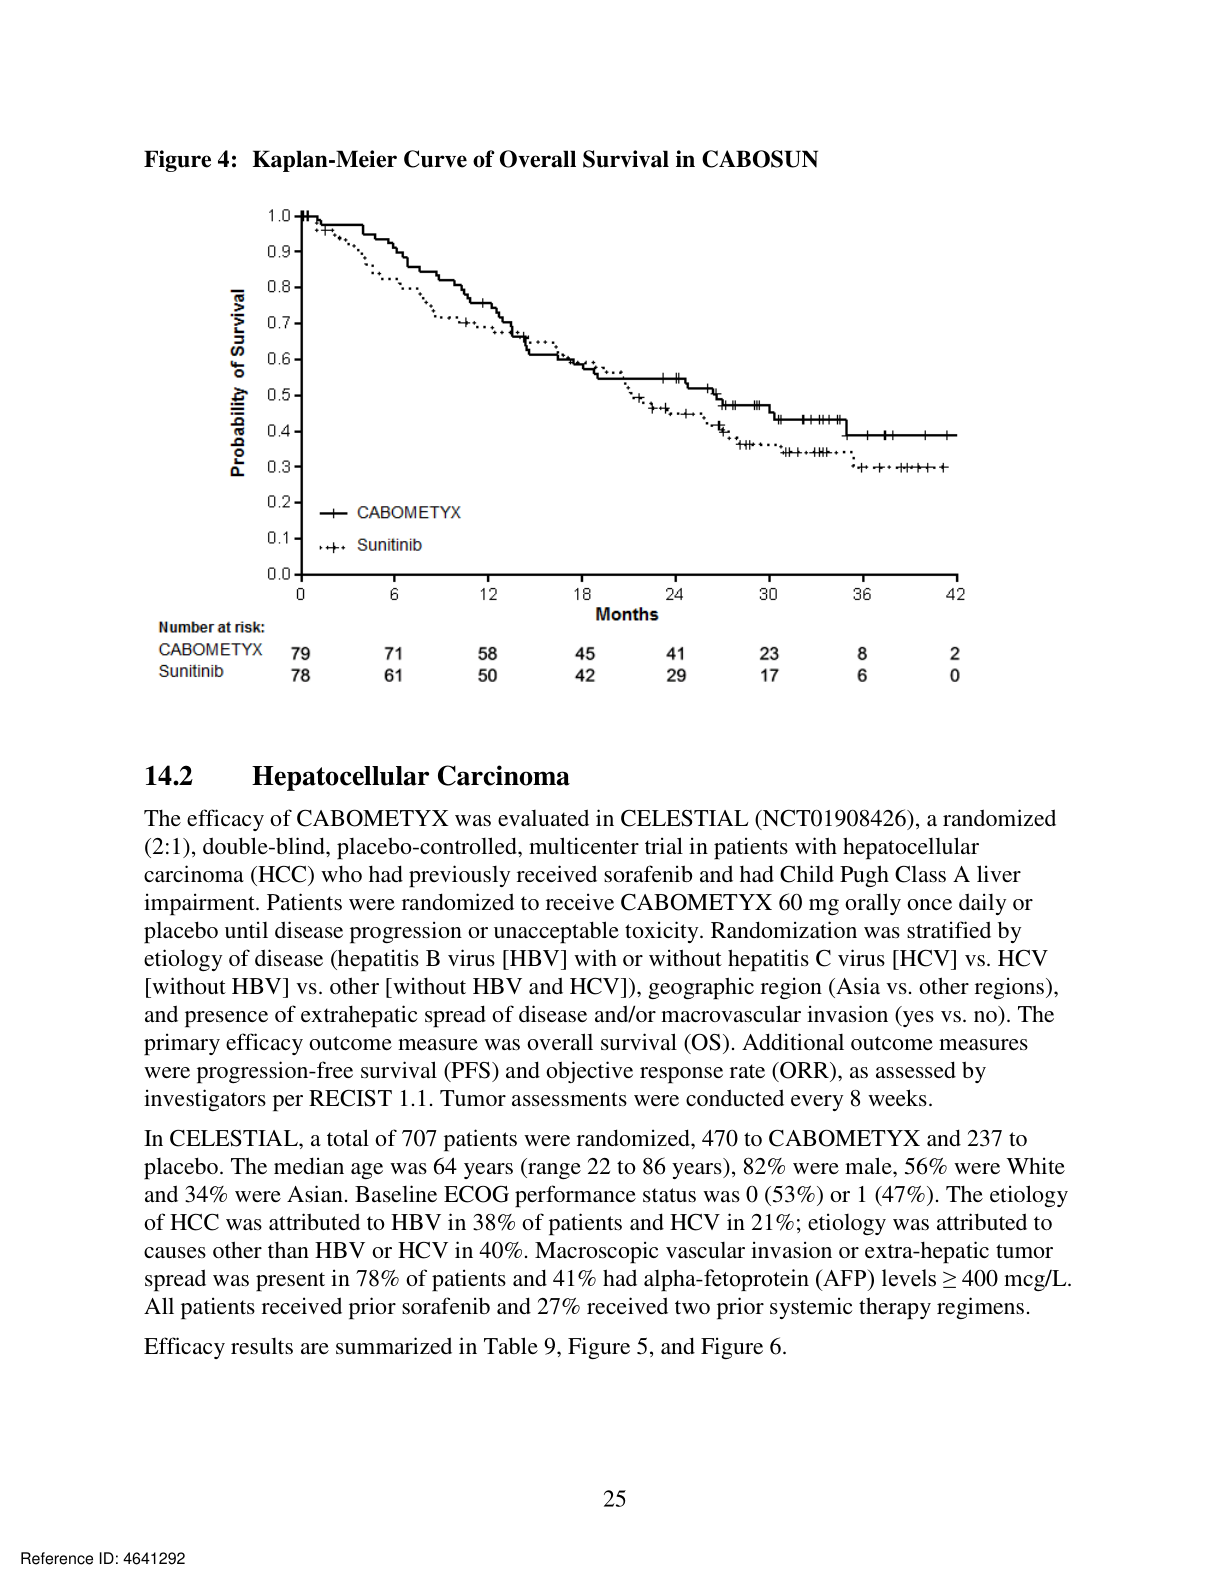nolines: (152, 638, 968, 688)
